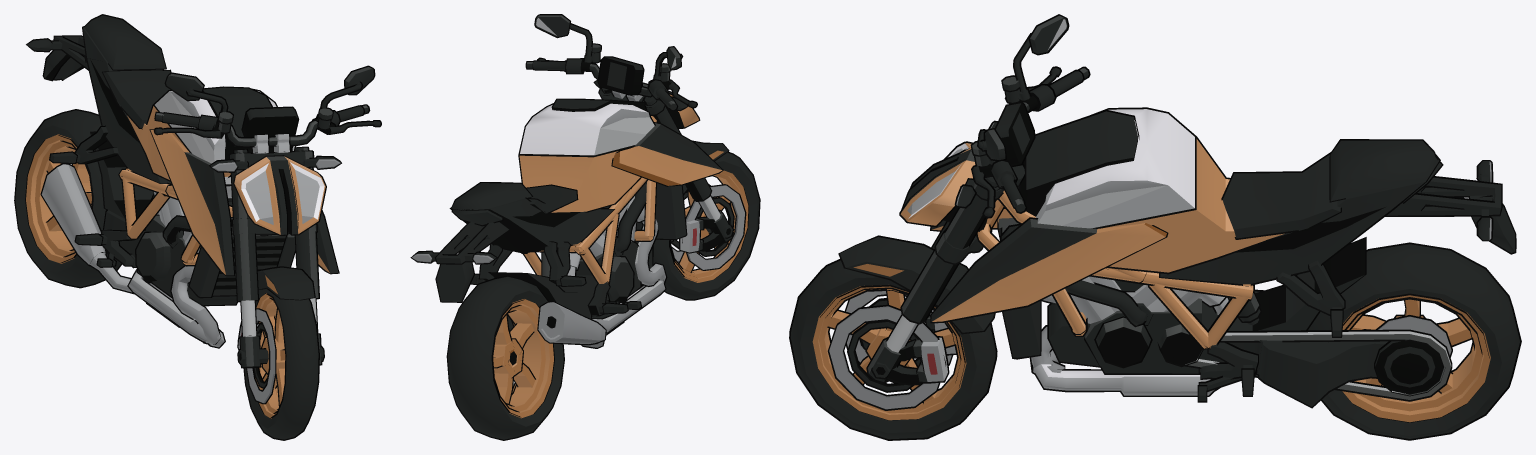
Rendered from duke390.glb.
The picture shows the model from 3 angles, left to right: view 1: azimuth 30°, elevation 25°; view 2: azimuth 150°, elevation 25°; view 3: azimuth 270°, elevation 25°; orthographic projection. The views are drawn at different scales.
Parts seen in each view (by area): view 1: Object_10, Object_6, Object_8; view 2: Object_10, Object_6, Object_8; view 3: Object_10, Object_6, Object_8.
Part boxes in pixels (x1=…): Object_10: x1=15, y1=15, x2=380, y2=439; Object_6: x1=26, y1=14, x2=381, y2=440; Object_8: x1=14, y1=109, x2=121, y2=288; Object_10: x1=412, y1=15, x2=759, y2=439; Object_6: x1=410, y1=14, x2=760, y2=403; Object_8: x1=446, y1=275, x2=564, y2=440; Object_10: x1=790, y1=15, x2=1519, y2=439; Object_6: x1=789, y1=14, x2=1516, y2=440; Object_8: x1=1321, y1=242, x2=1521, y2=440.
Bounding box in the file's own units: 0.8307 × 1.26 × 2.1.
2 materials, 1 textured.
